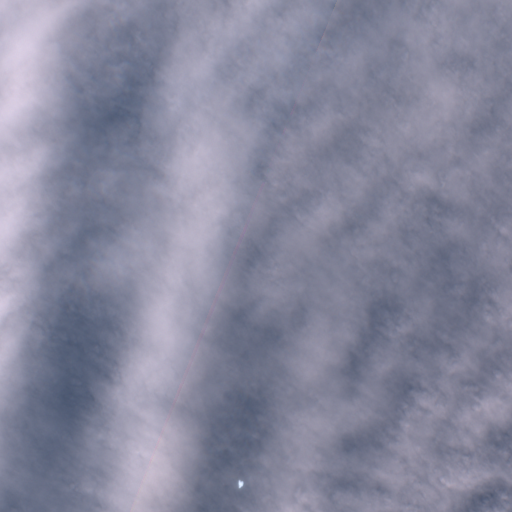Iceberg: (238, 480, 243, 487)
